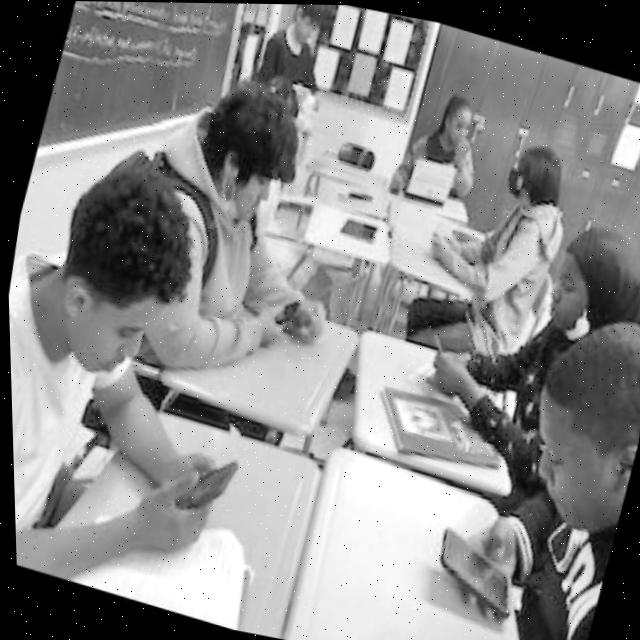phone: (418, 518, 525, 618), (163, 443, 238, 523), (417, 327, 461, 381), (267, 292, 299, 327)
